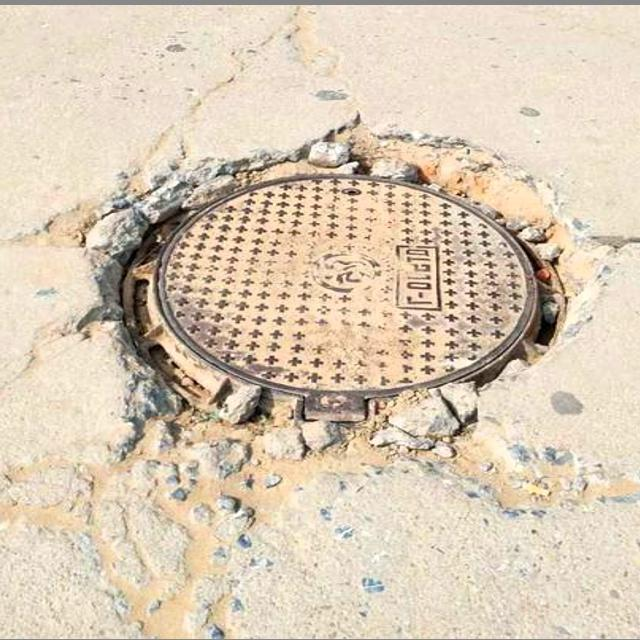circle: (47, 117, 634, 470)
